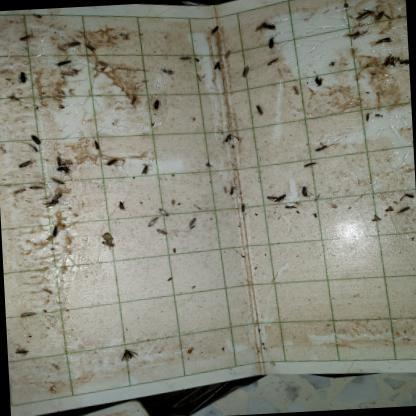prays_oleae: (377, 46, 404, 78), (96, 227, 118, 256), (220, 124, 240, 148), (246, 21, 278, 34), (116, 346, 140, 362), (61, 35, 82, 52), (296, 183, 314, 202), (52, 53, 72, 70), (266, 50, 282, 70), (254, 98, 268, 120), (15, 157, 36, 171), (352, 8, 372, 22), (15, 67, 31, 84), (314, 139, 330, 156), (300, 158, 320, 170), (50, 175, 66, 190), (116, 194, 128, 214), (207, 25, 224, 39), (162, 63, 176, 80), (30, 127, 41, 148), (140, 158, 152, 176), (18, 32, 36, 42), (102, 160, 118, 171), (145, 216, 159, 228), (266, 192, 278, 204), (374, 39, 394, 46), (92, 140, 100, 154), (275, 192, 286, 200)
